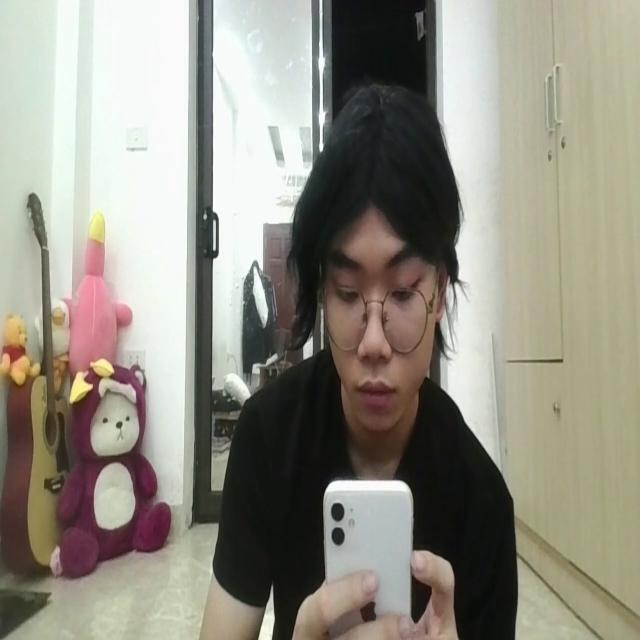phone: (320, 468, 415, 640)
student: (207, 74, 516, 640)
